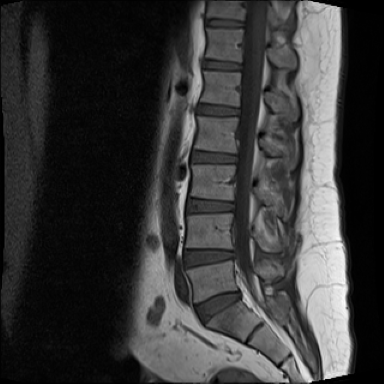Lumbar Disc Bulge (LDB): (186, 298, 246, 344), (174, 257, 242, 285)
Normal IVD: (182, 205, 239, 230), (187, 157, 243, 180), (192, 112, 246, 133), (203, 68, 248, 86), (205, 28, 250, 43)
Spinal Stenosis (SS): (231, 297, 245, 316), (227, 257, 240, 277)
